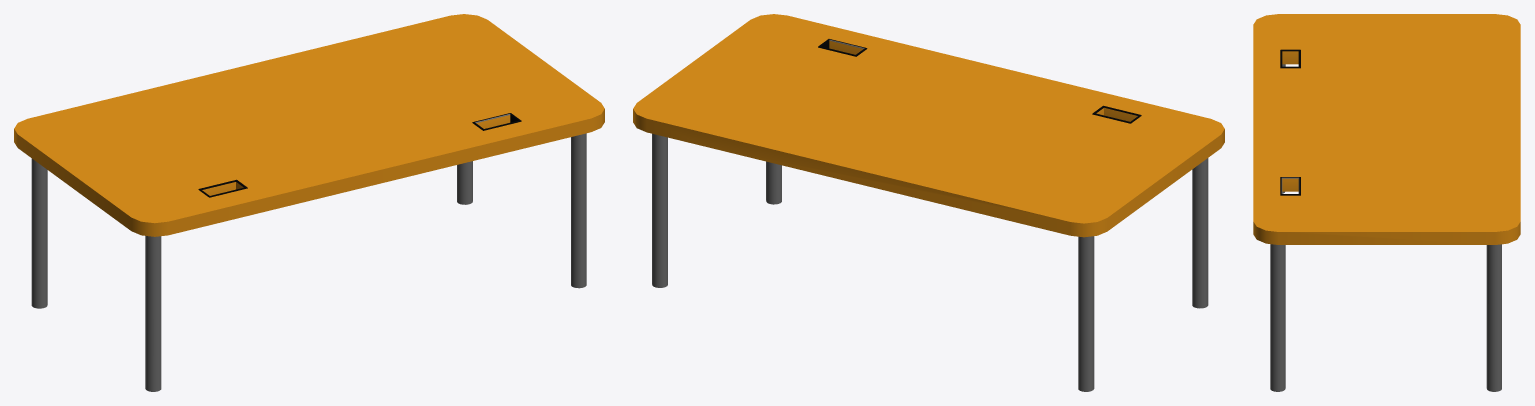
File: Desk.fbx
The picture shows the model from 3 angles, left to right: view 1: azimuth 30°, elevation 25°; view 2: azimuth 150°, elevation 25°; view 3: azimuth 270°, elevation 25°; orthographic projection. The views are drawn at different scales.
Visible parts, largest first — view 1: Desk; view 2: Desk; view 3: Desk.
Part boxes in pixels (<box>): Desk: <box>14,14,604,391</box>; Desk: <box>633,14,1224,391</box>; Desk: <box>1253,14,1520,391</box>.
Size of the model in its own units: 360 by 130 by 187.
